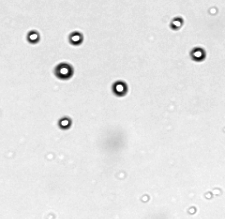Living Cell: (53, 59, 74, 79), (112, 79, 129, 97), (189, 46, 207, 62), (68, 29, 83, 47), (26, 29, 41, 44), (58, 115, 72, 131), (169, 16, 184, 30)
